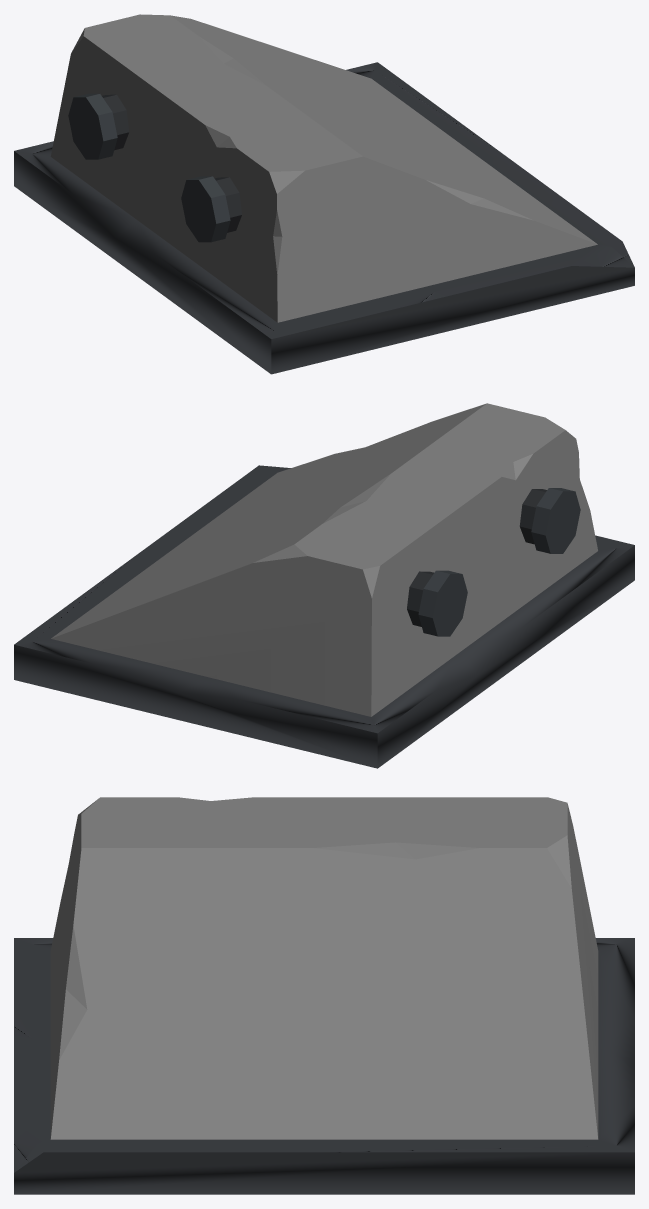
The model's file is SM_Env_Ground_Barrier_01.fbx.
3 renders of one model, top to bottom at view 1: azimuth 30°, elevation 25°; view 2: azimuth 150°, elevation 25°; view 3: azimuth 270°, elevation 25°, orthographic. The views are drawn at different scales.
Parts seen in each view (by area): view 1: SM_Env_Ground_Barrier_01; view 2: SM_Env_Ground_Barrier_01; view 3: SM_Env_Ground_Barrier_01.
Boxes of the visible parts, box(x1,y1,x2,y2) form: SM_Env_Ground_Barrier_01: box(14, 14, 634, 374); SM_Env_Ground_Barrier_01: box(14, 403, 634, 768); SM_Env_Ground_Barrier_01: box(14, 797, 634, 1194).
Size of the model in its own units: 293 by 129 by 358.
